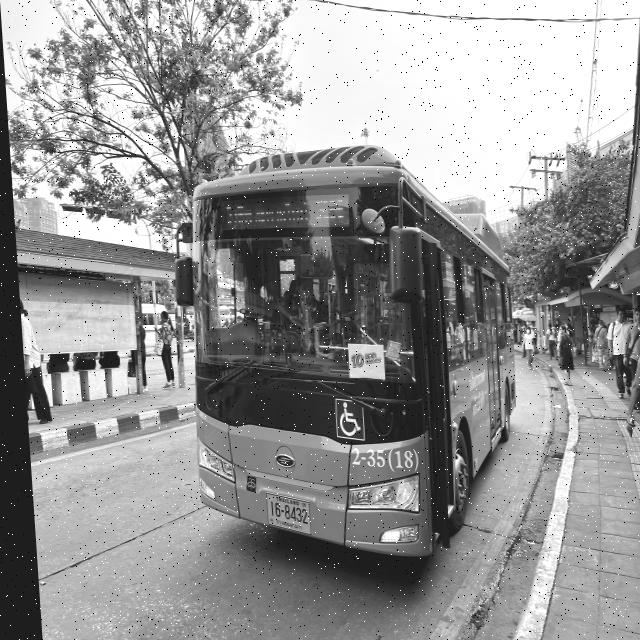Bus-Line-Number: (306, 192, 350, 227)
Destination-Sign-Normal: (215, 196, 308, 230)
TSB-Bus: (163, 146, 522, 562)
